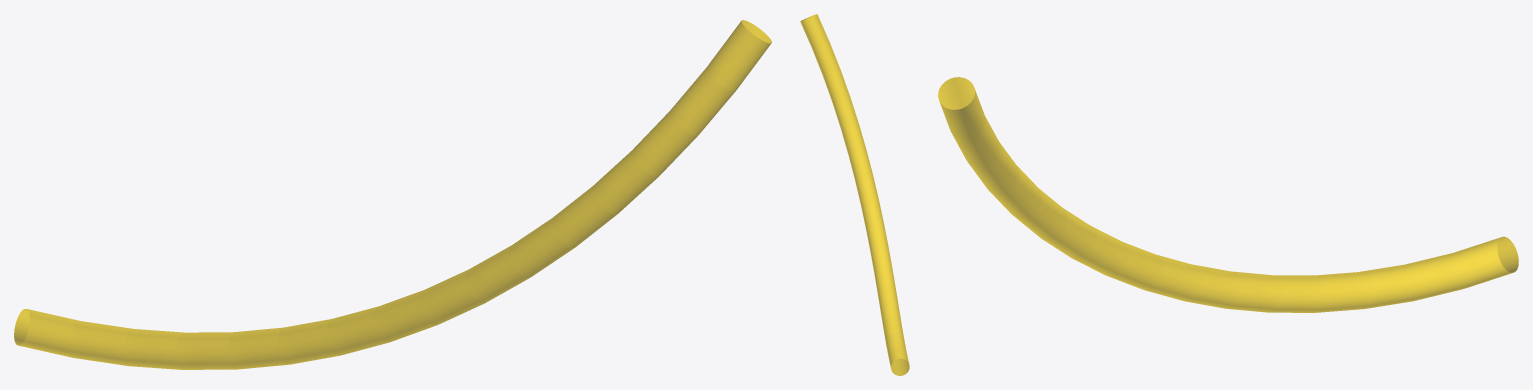
Rendered from Event_402970704_track_46.fbx.
3 renders of one model, left to right at view 1: azimuth 30°, elevation 25°; view 2: azimuth 150°, elevation 25°; view 3: azimuth 270°, elevation 25°, orthographic. The views are drawn at different scales.
Visible parts, largest first — view 1: Model; view 2: Model; view 3: Model.
Part boxes in pixels (box(x1,y1,x2,y2)): Model: box(14, 20, 771, 369); Model: box(800, 14, 909, 375); Model: box(938, 77, 1518, 312).
Size of the model in its own units: 0.5953 by 0.4849 by 0.6164.
